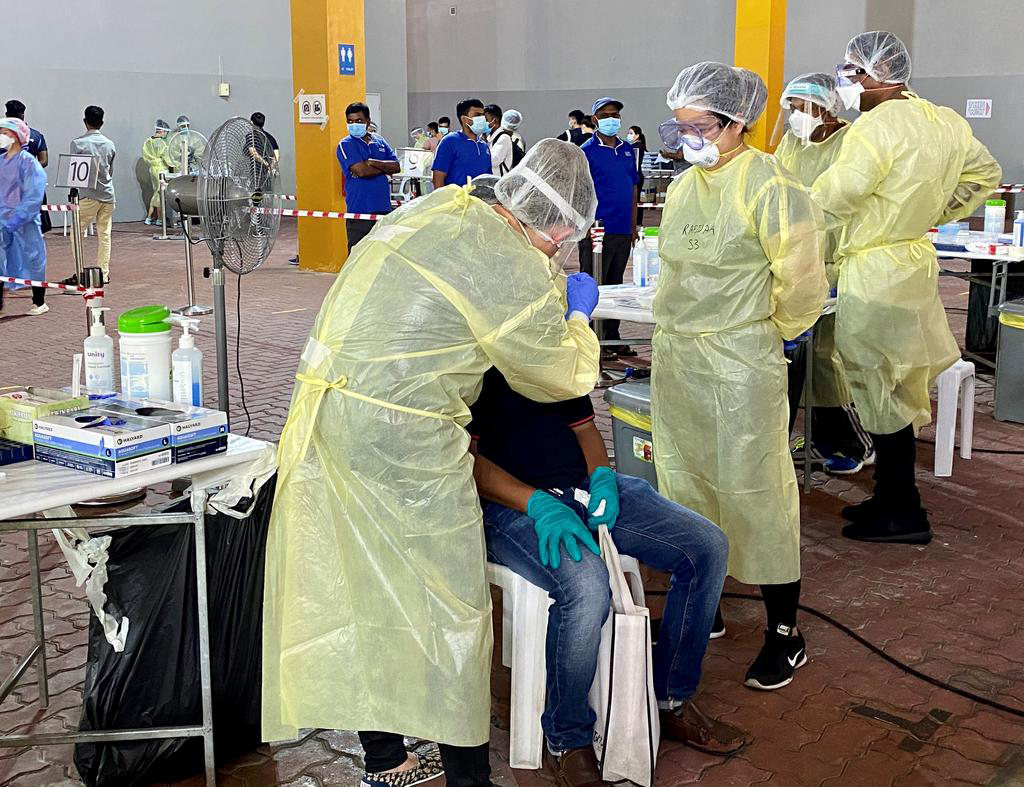Coverall: (279, 209, 515, 739), (652, 155, 818, 494), (824, 105, 974, 431)
Gloves: (522, 485, 593, 574), (581, 462, 624, 528), (562, 268, 601, 322)
Goggles: (655, 117, 721, 151)
with_mask: (787, 102, 820, 142), (593, 106, 622, 137), (346, 110, 369, 139), (464, 105, 483, 135)
